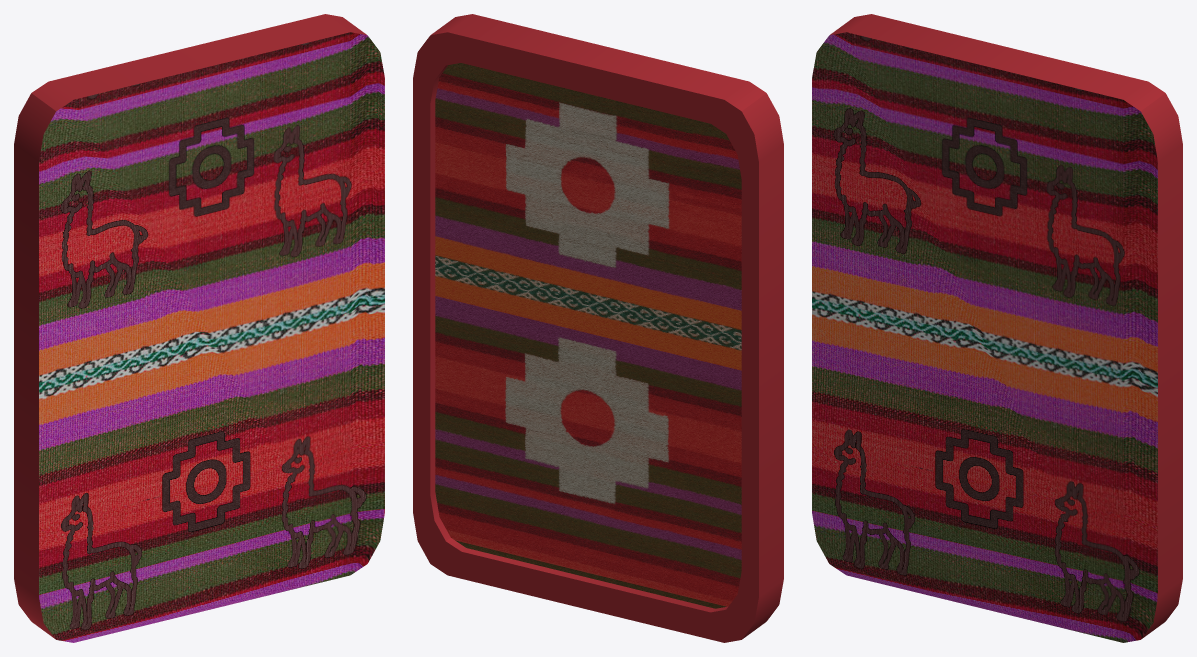
Rendered from target02.fbx.
The picture shows the model from 3 angles, left to right: view 1: azimuth 30°, elevation 25°; view 2: azimuth 150°, elevation 25°; view 3: azimuth 330°, elevation 25°; orthographic projection.
Visible parts, largest first — view 1: Target; view 2: Target; view 3: Target.
Boxes of the visible parts, <box> form: Target: <box>14,14,384,642</box>; Target: <box>413,14,783,642</box>; Target: <box>812,14,1182,642</box>.
Bounding box in the file's own units: 50 × 75 × 6.25.
